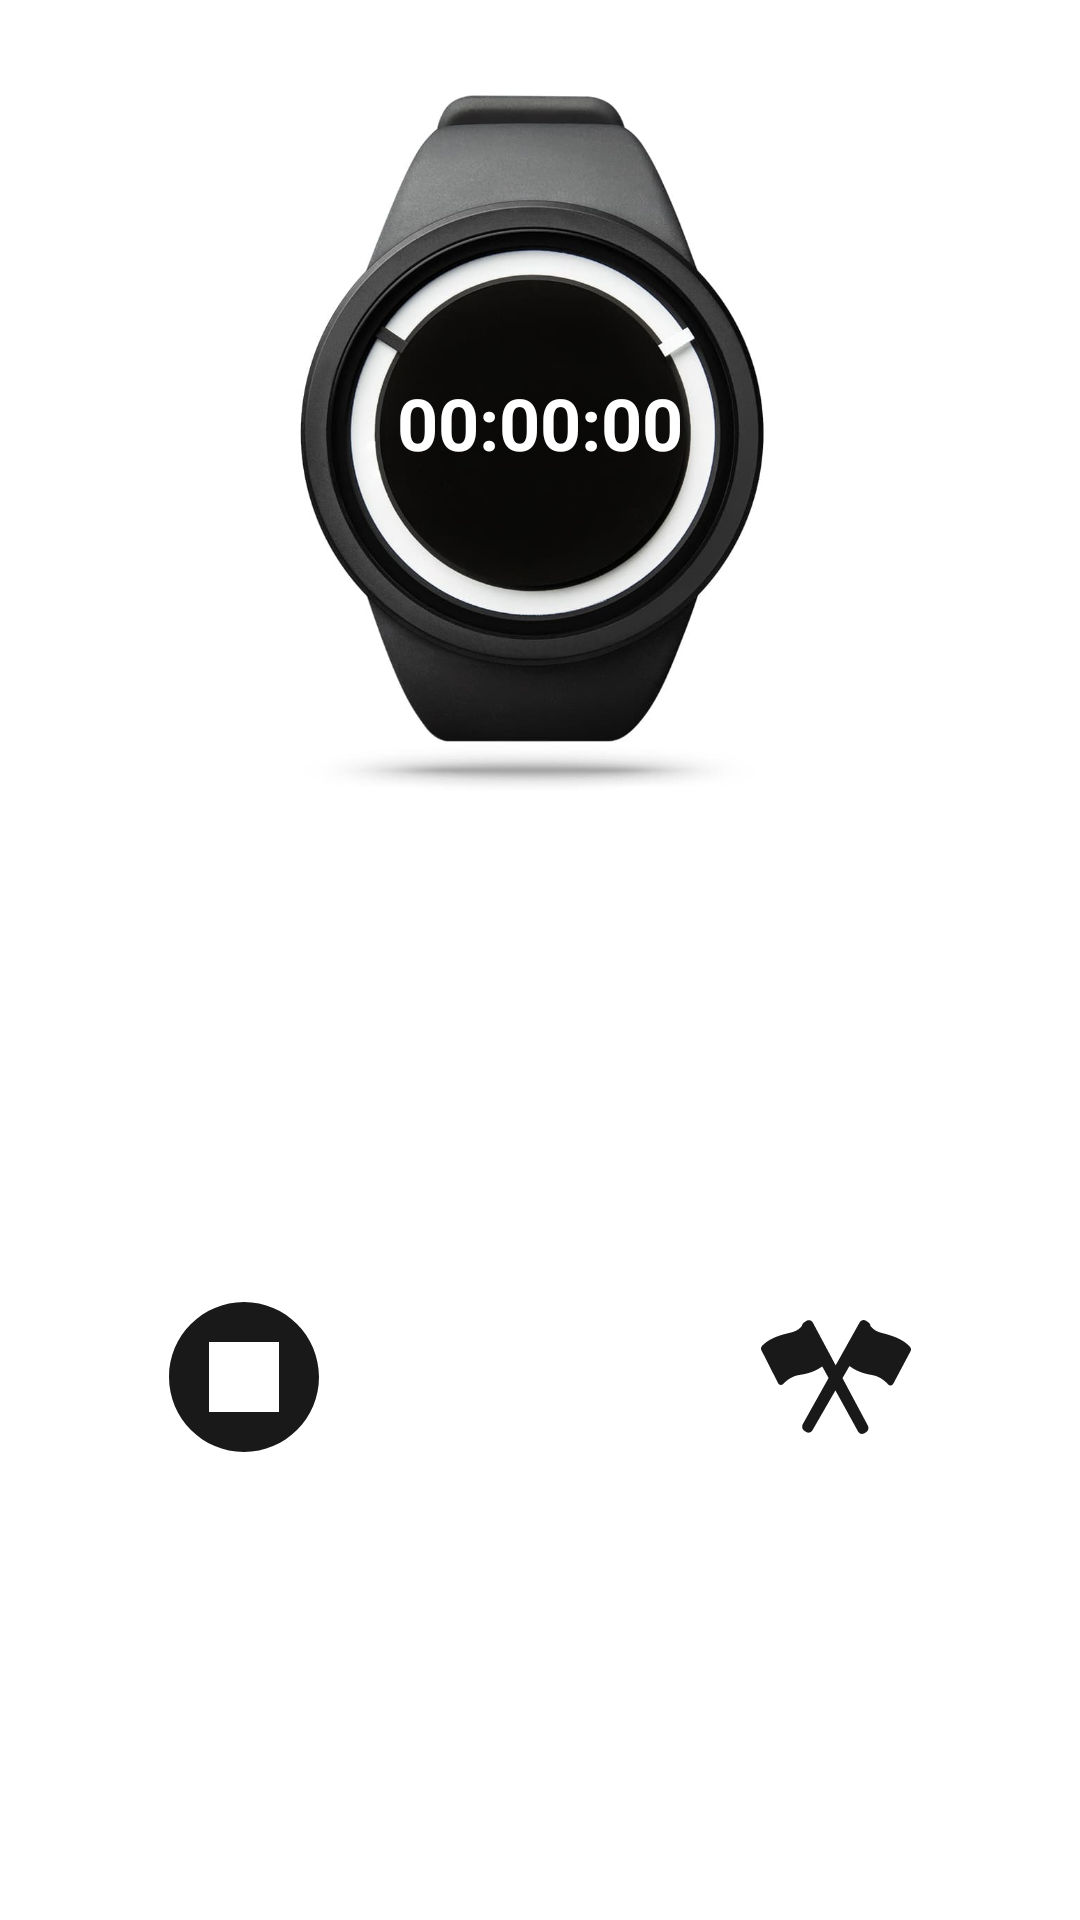

Screen size 1080*1920. Icon name, then its center in pixels as [x,y]:
lap: [836,1377]
watch stop: [244,1377]
